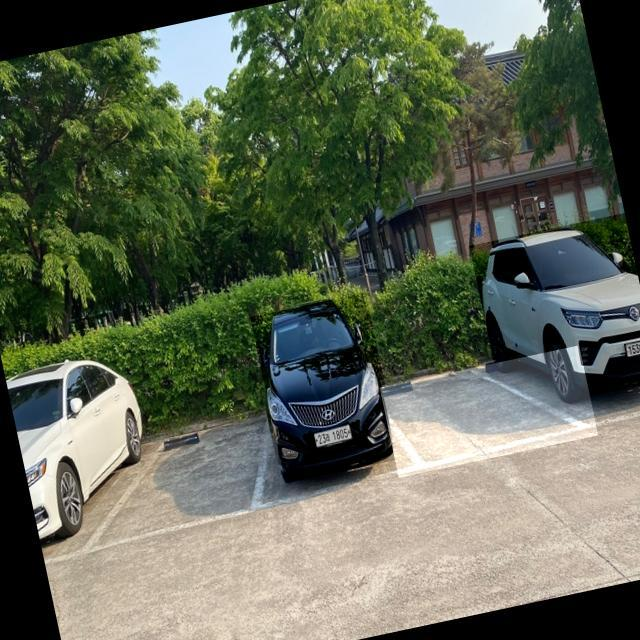empty: (72, 424, 270, 558), (381, 367, 596, 473)
occupied: (469, 212, 640, 413), (250, 292, 400, 483)
